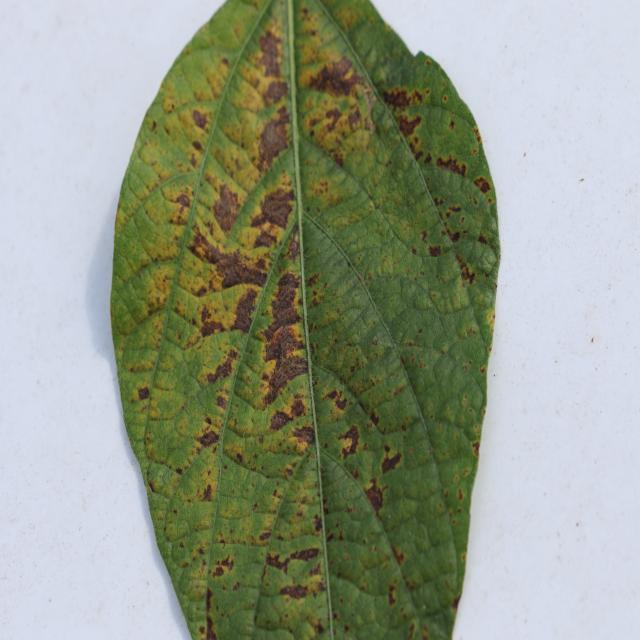Bacterial_Blight: (262, 321, 308, 387), (251, 178, 300, 237), (209, 250, 269, 292), (306, 57, 364, 98), (256, 111, 291, 169), (265, 545, 322, 579), (267, 271, 301, 319), (212, 184, 243, 233), (230, 287, 260, 336), (256, 30, 285, 76), (381, 85, 414, 111), (206, 356, 235, 385), (337, 424, 361, 459), (435, 152, 466, 178), (364, 478, 386, 513), (380, 445, 403, 475), (397, 112, 423, 138), (264, 78, 289, 105), (200, 315, 226, 340), (291, 424, 315, 448), (264, 552, 290, 574), (280, 582, 311, 600), (210, 553, 234, 576), (290, 545, 320, 563), (269, 410, 293, 432), (196, 428, 220, 449), (266, 337, 286, 362), (324, 106, 343, 129), (288, 397, 307, 419), (192, 108, 210, 130), (459, 262, 476, 285), (347, 107, 363, 130), (473, 175, 492, 194), (391, 544, 405, 566), (445, 203, 462, 220), (175, 192, 191, 208), (368, 409, 380, 427), (446, 229, 461, 243), (137, 385, 150, 401), (332, 153, 345, 169), (312, 514, 323, 532), (388, 584, 397, 606), (428, 244, 442, 258), (203, 482, 213, 500), (192, 140, 203, 151), (424, 152, 433, 165), (236, 452, 243, 463), (449, 119, 455, 131)
Soybean: (111, 0, 499, 639)
